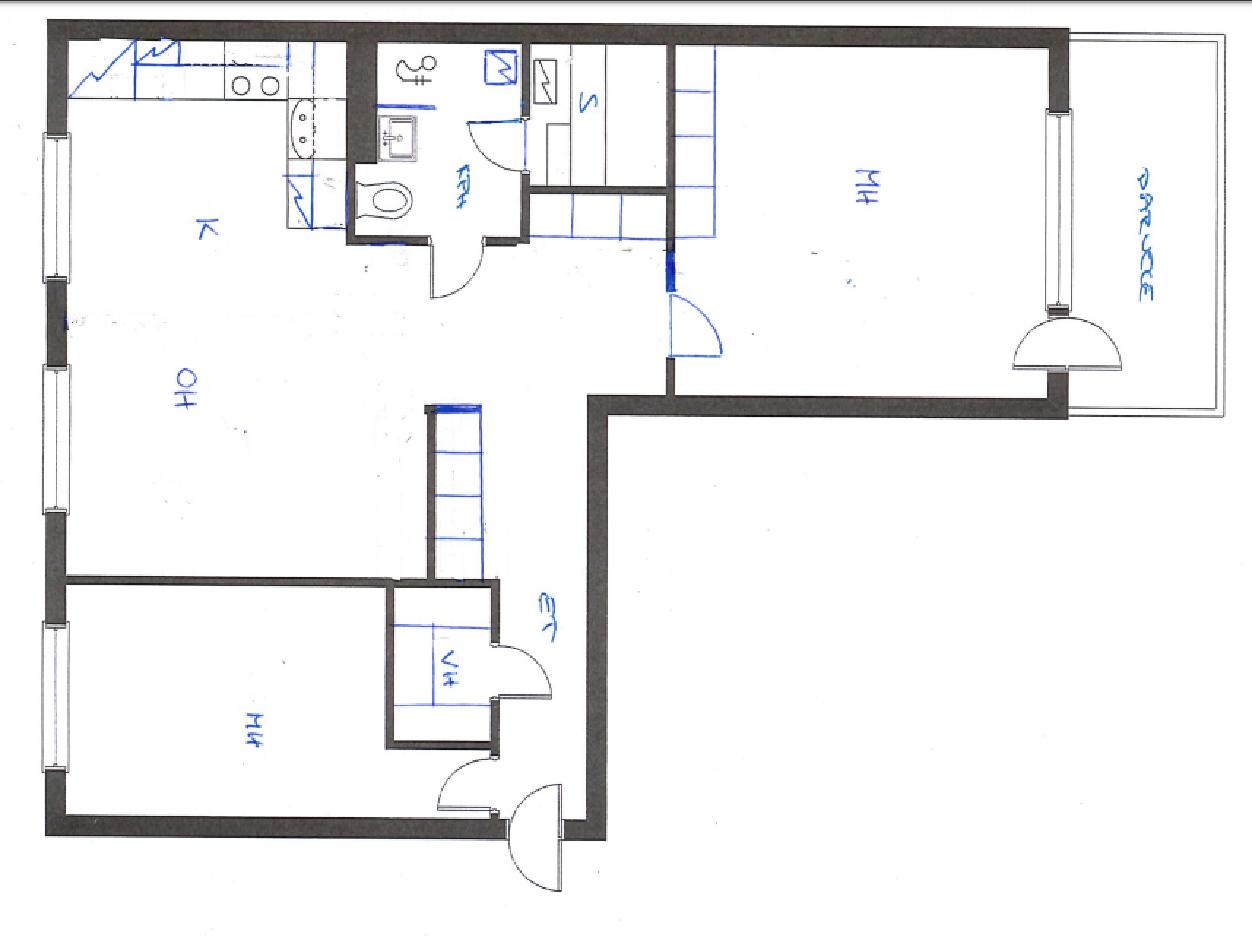door: (507, 783, 568, 900), (1015, 318, 1123, 378), (423, 236, 496, 303), (663, 292, 729, 362), (493, 645, 556, 710), (462, 117, 531, 174), (435, 756, 499, 811)
window: (1046, 109, 1071, 311), (41, 364, 70, 512), (42, 134, 69, 281), (43, 625, 68, 766)
zone: (68, 40, 667, 814), (679, 44, 1050, 400), (67, 584, 497, 819), (1069, 35, 1213, 407), (351, 38, 518, 239), (526, 41, 668, 186), (390, 584, 492, 739)
